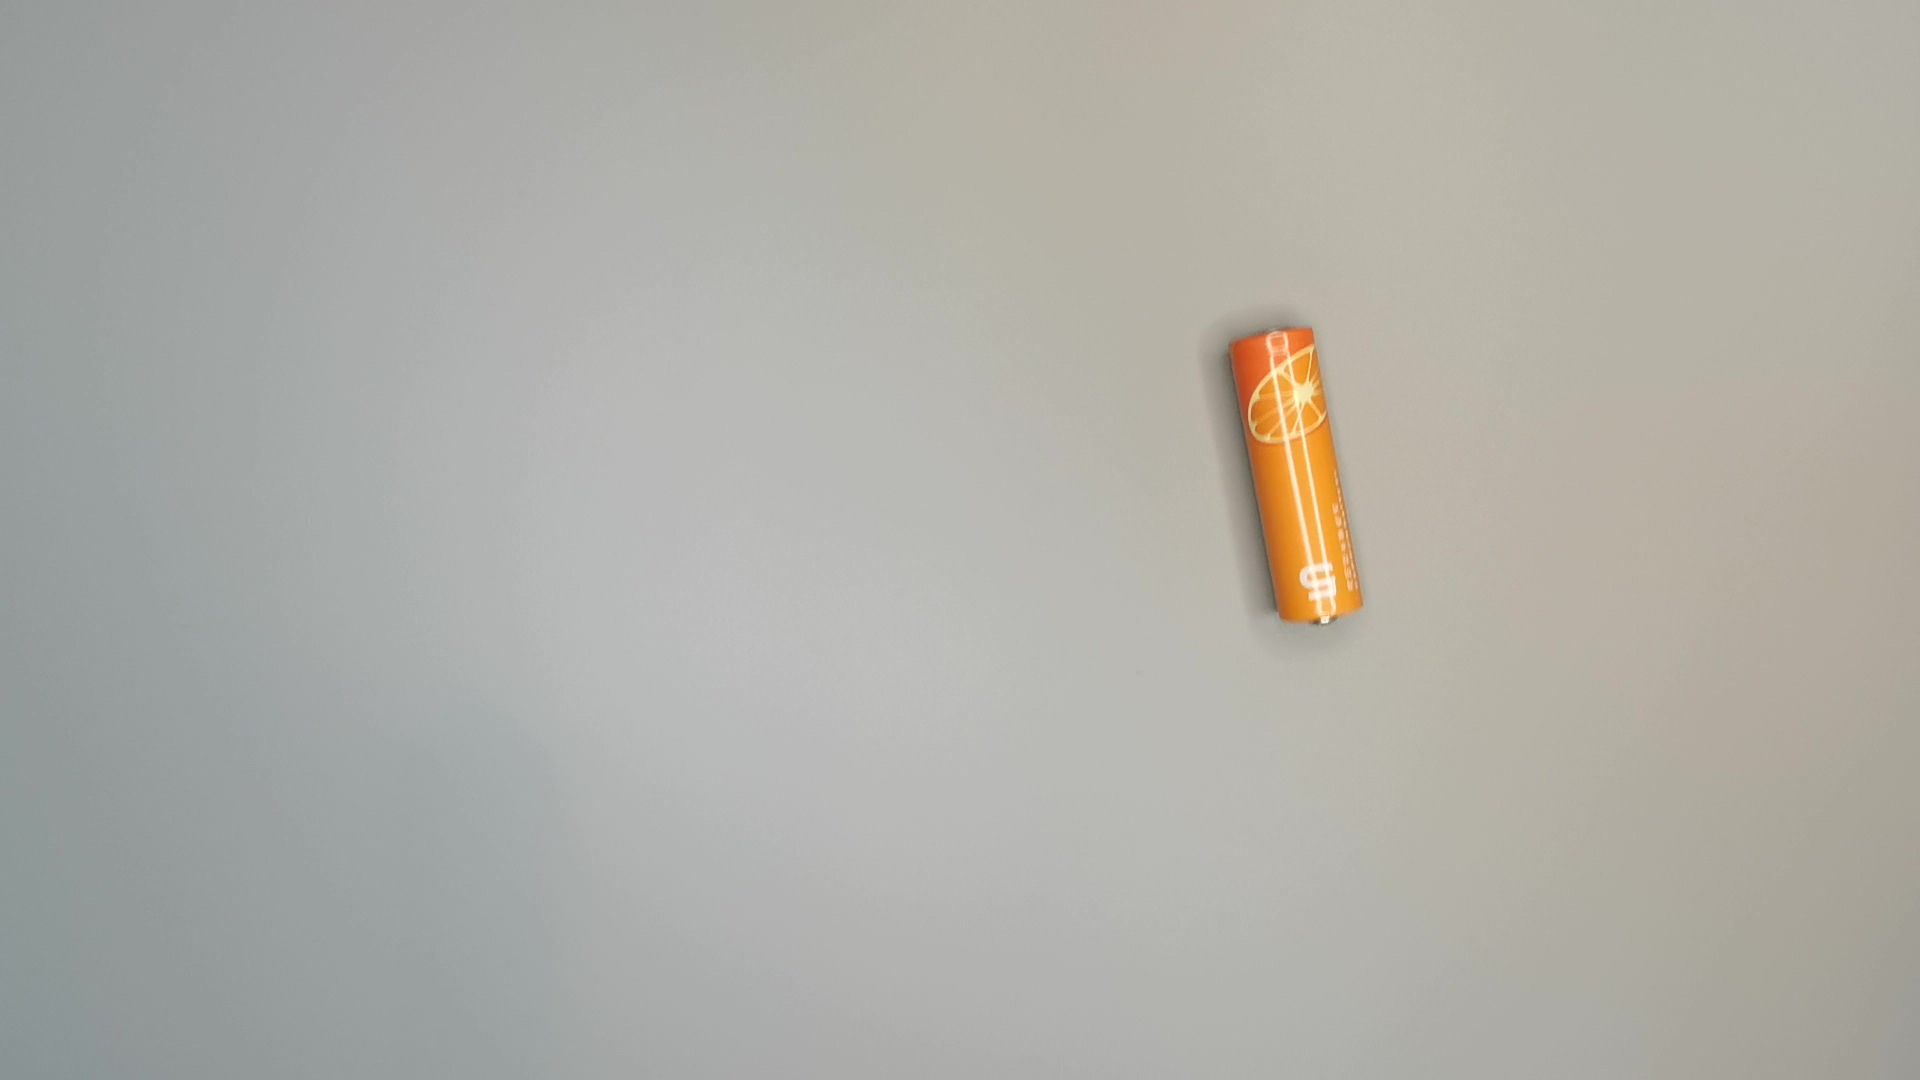battery: (1221, 323, 1370, 636)
